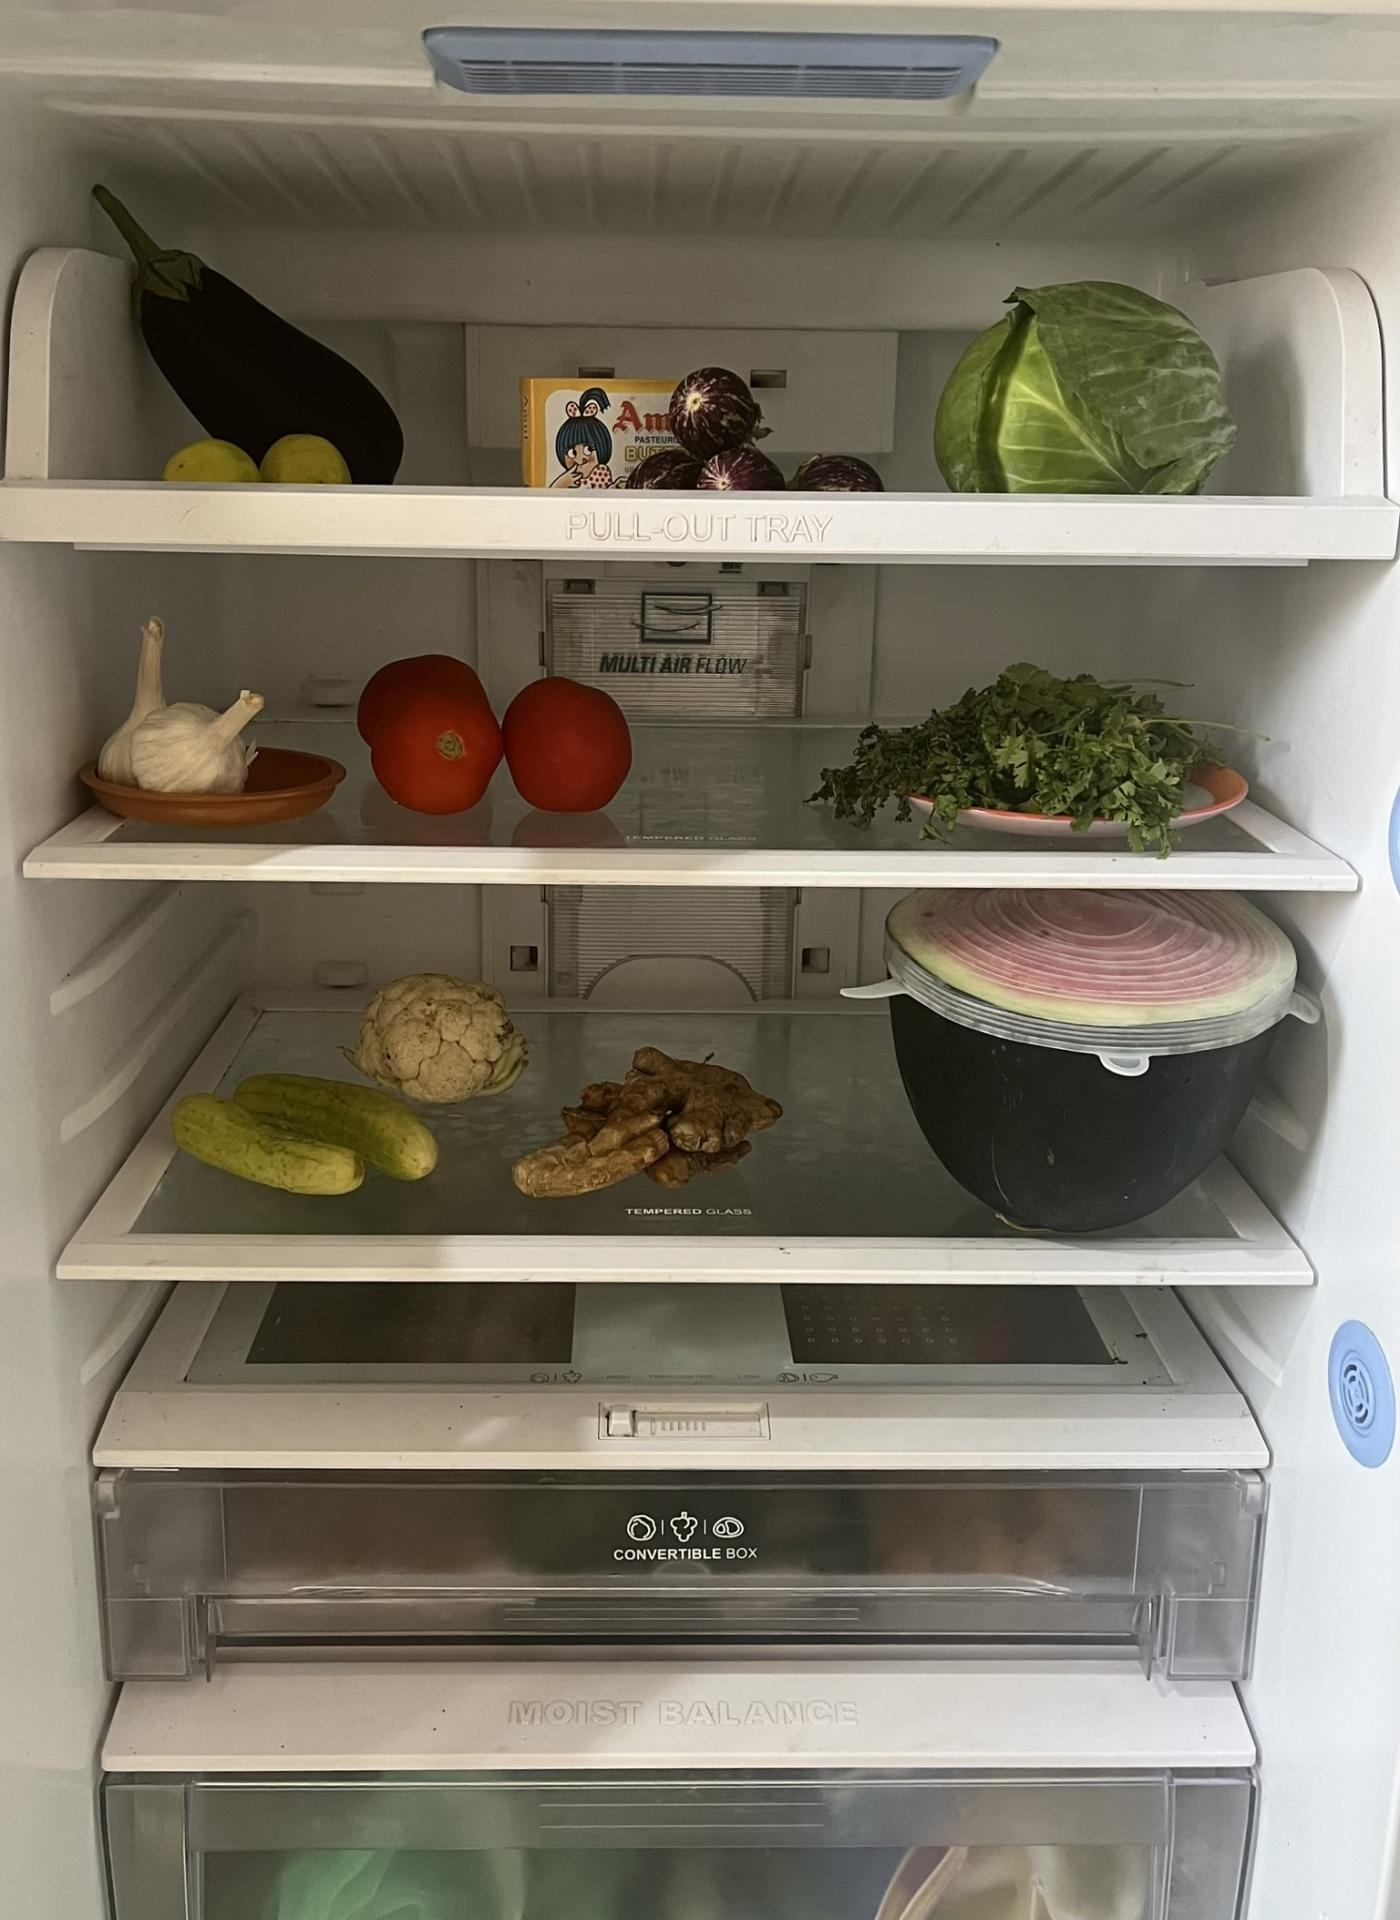brinjal: (78, 188, 409, 483), (637, 370, 887, 495)
butter: (520, 376, 695, 484)
cabbage: (933, 282, 1235, 499)
cauliflower: (359, 973, 531, 1105)
coriander: (813, 657, 1224, 844)
cucumber: (174, 1076, 438, 1190)
garlic: (104, 620, 273, 798)
ginger: (523, 1048, 781, 1201)
lemon: (168, 438, 344, 480)
tomato: (350, 654, 629, 809)
watermelon: (886, 888, 1297, 1231)
